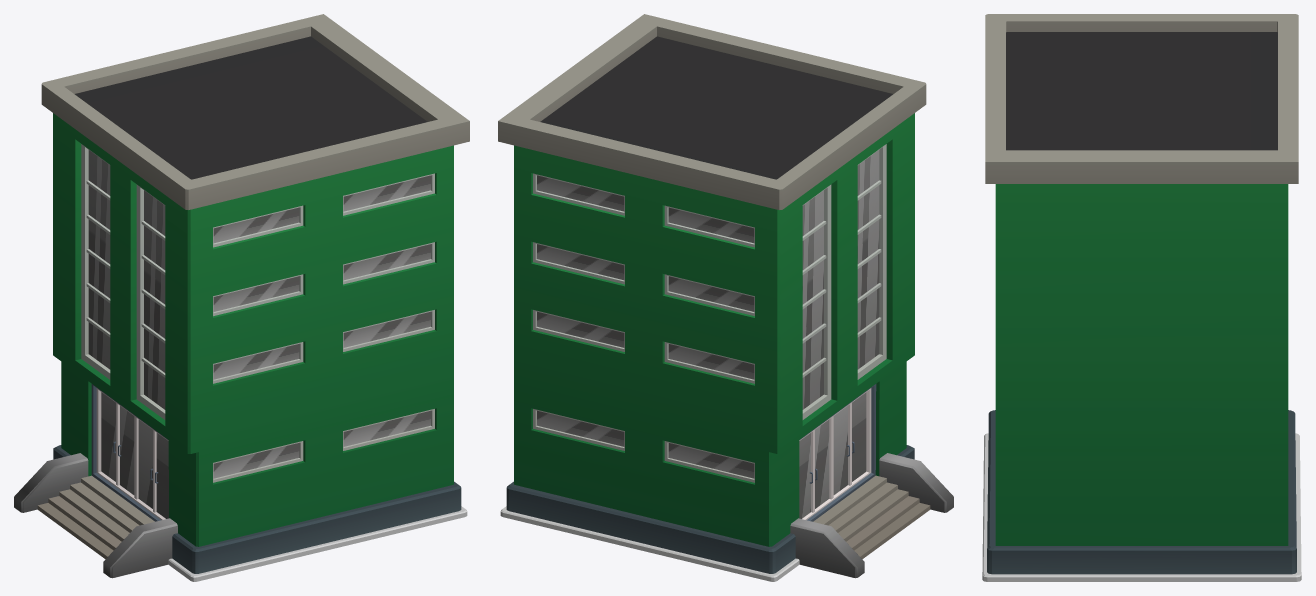
Rendered from Building_26_M.glb.
The picture shows the model from 3 angles, left to right: view 1: azimuth 30°, elevation 25°; view 2: azimuth 150°, elevation 25°; view 3: azimuth 270°, elevation 25°; orthographic projection. The views are drawn at different scales.
Visible parts, largest first — view 1: Building_26_M; view 2: Building_26_M; view 3: Building_26_M.
Part boxes in pixels (<box>): Building_26_M: <box>14,14,469,581</box>; Building_26_M: <box>498,14,953,581</box>; Building_26_M: <box>982,14,1301,581</box>.
Size of the model in its own units: 9.23 by 10.37 by 7.12.
Materials: 3 (3 with a texture image).
